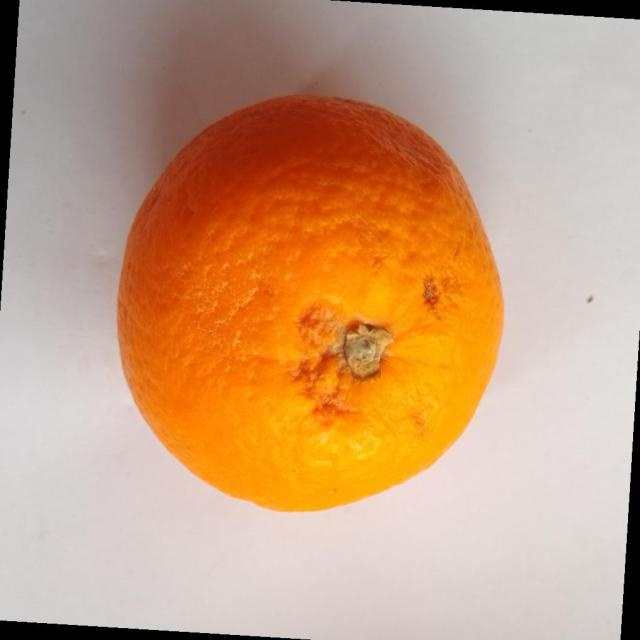agrume: (116, 92, 505, 513)
